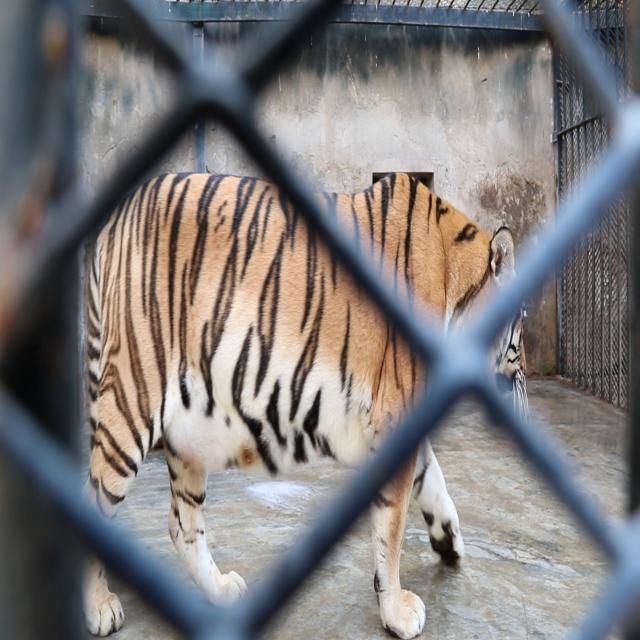Tiger: (80, 137, 533, 639)
